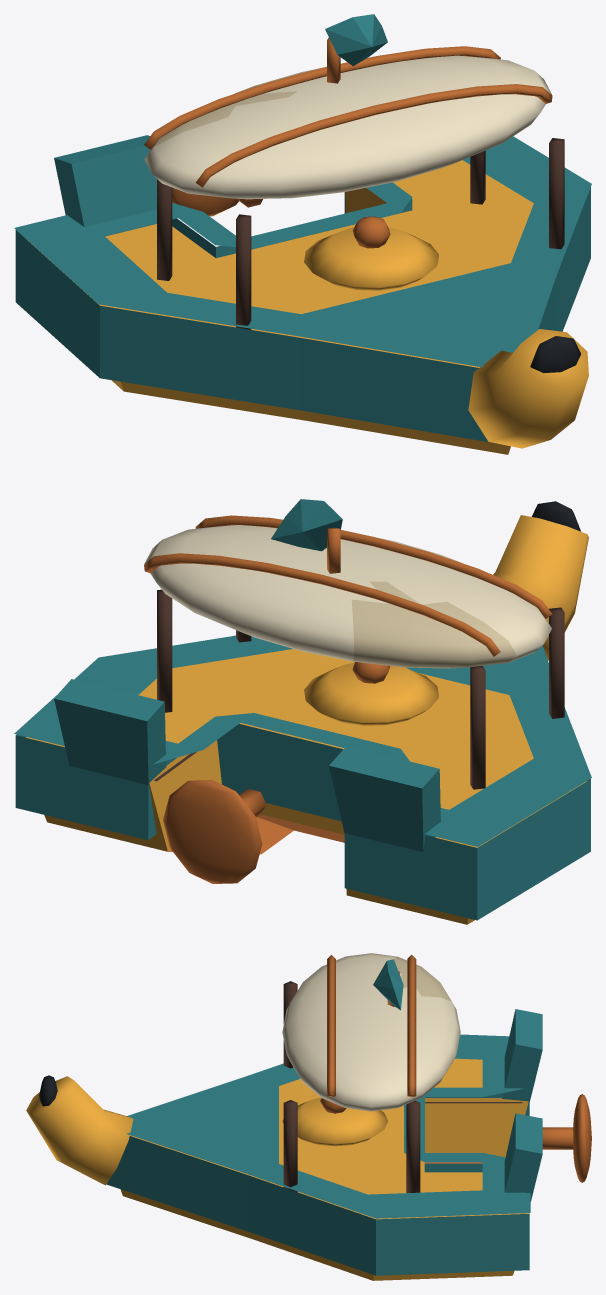
The model's file is copperskiff.glb.
The picture shows the model from 3 angles, top to bottom: view 1: azimuth 30°, elevation 25°; view 2: azimuth 150°, elevation 25°; view 3: azimuth 270°, elevation 25°; orthographic projection. The views are drawn at different scales.
Visible parts, largest first — view 1: ME_20261020_copperskiff_team_coaming_wall.001, ME_20261020_copperskiff_canvas_lens_0.001, ME_20261020_copperskiff_copper_boat_belly.001, ME_20261020_copperskiff_team_top_coaming.001, ME_20261020_copperskiff_team_foredeck.001, ME_20261020_copperskiff_curved_bow_spout.001, ME_20261020_copperskiff_stern_board_-1.001, ME_20261020_copperskiff_kettle_lid.001, ME_20261020_copperskiff_copper_canvas_binding_0_0.001, ME_20261020_copperskiff_copper_canvas_binding_0_1.001, ME_20261020_copperskiff_team_leaf_pennant.001, ME_20261020_copperskiff_canvas_support_-1_0.001 (+6 smaller); view 2: ME_20261020_copperskiff_canvas_lens_0.001, ME_20261020_copperskiff_team_coaming_wall.001, ME_20261020_copperskiff_copper_boat_belly.001, ME_20261020_copperskiff_team_top_coaming.001, ME_20261020_copperskiff_stern_board_1.001, ME_20261020_copperskiff_stern_board_-1.001, ME_20261020_copperskiff_pusher_disc.001, ME_20261020_copperskiff_curved_bow_spout.001, ME_20261020_copperskiff_kettle_lid.001, ME_20261020_copperskiff_copper_canvas_binding_0_1.001, ME_20261020_copperskiff_copper_canvas_binding_0_0.001, ME_20261020_copperskiff_team_foredeck.001 (+7 smaller); view 3: ME_20261020_copperskiff_team_coaming_wall.001, ME_20261020_copperskiff_canvas_lens_0.001, ME_20261020_copperskiff_copper_boat_belly.001, ME_20261020_copperskiff_team_top_coaming.001, ME_20261020_copperskiff_team_foredeck.001, ME_20261020_copperskiff_curved_bow_spout.001, ME_20261020_copperskiff_kettle_lid.001, ME_20261020_copperskiff_stern_board_-1.001, ME_20261020_copperskiff_stern_board_1.001, ME_20261020_copperskiff_copper_canvas_binding_0_1.001, ME_20261020_copperskiff_canvas_support_1_1.001, ME_20261020_copperskiff_pusher_disc.001 (+6 smaller).
Part boxes in pixels (x1,y1,x2,y2): ME_20261020_copperskiff_team_coaming_wall.001: (15, 187, 590, 443); ME_20261020_copperskiff_canvas_lens_0.001: (144, 55, 551, 199); ME_20261020_copperskiff_copper_boat_belly.001: (28, 160, 533, 454); ME_20261020_copperskiff_team_top_coaming.001: (14, 136, 591, 367); ME_20261020_copperskiff_team_foredeck.001: (270, 255, 544, 361); ME_20261020_copperskiff_curved_bow_spout.001: (468, 329, 588, 448); ME_20261020_copperskiff_stern_board_-1.001: (54, 135, 156, 236); ME_20261020_copperskiff_kettle_lid.001: (304, 227, 438, 290); ME_20261020_copperskiff_copper_canvas_binding_0_0.001: (195, 84, 552, 187); ME_20261020_copperskiff_copper_canvas_binding_0_1.001: (144, 46, 500, 149); ME_20261020_copperskiff_team_leaf_pennant.001: (325, 14, 387, 66); ME_20261020_copperskiff_canvas_support_-1_0.001: (236, 214, 251, 329); ME_20261020_copperskiff_canvas_lens_0.001: (144, 525, 551, 668); ME_20261020_copperskiff_team_coaming_wall.001: (15, 724, 590, 920); ME_20261020_copperskiff_copper_boat_belly.001: (26, 649, 586, 924); ME_20261020_copperskiff_team_top_coaming.001: (14, 635, 591, 846); ME_20261020_copperskiff_stern_board_1.001: (54, 679, 166, 787); ME_20261020_copperskiff_stern_board_-1.001: (329, 746, 440, 852); ME_20261020_copperskiff_pusher_disc.001: (163, 780, 262, 883); ME_20261020_copperskiff_curved_bow_spout.001: (493, 515, 588, 660); ME_20261020_copperskiff_kettle_lid.001: (304, 662, 438, 725); ME_20261020_copperskiff_copper_canvas_binding_0_1.001: (144, 553, 500, 656); ME_20261020_copperskiff_copper_canvas_binding_0_0.001: (195, 515, 552, 618); ME_20261020_copperskiff_team_foredeck.001: (406, 653, 545, 703); ME_20261020_copperskiff_team_coaming_wall.001: (106, 1093, 529, 1275); ME_20261020_copperskiff_canvas_lens_0.001: (282, 953, 460, 1111); ME_20261020_copperskiff_copper_boat_belly.001: (120, 1058, 529, 1280); ME_20261020_copperskiff_team_top_coaming.001: (126, 1034, 530, 1218); ME_20261020_copperskiff_team_foredeck.001: (131, 1071, 278, 1175); ME_20261020_copperskiff_curved_bow_spout.001: (26, 1076, 133, 1185); ME_20261020_copperskiff_kettle_lid.001: (282, 1097, 388, 1146); ME_20261020_copperskiff_stern_board_-1.001: (502, 1009, 542, 1104); ME_20261020_copperskiff_stern_board_1.001: (504, 1113, 542, 1201); ME_20261020_copperskiff_copper_canvas_binding_0_1.001: (407, 955, 416, 1097); ME_20261020_copperskiff_canvas_support_1_1.001: (406, 1100, 420, 1192); ME_20261020_copperskiff_pusher_disc.001: (573, 1094, 591, 1182).
Size of the model in its own units: 1.59 by 1.04 by 2.07.
